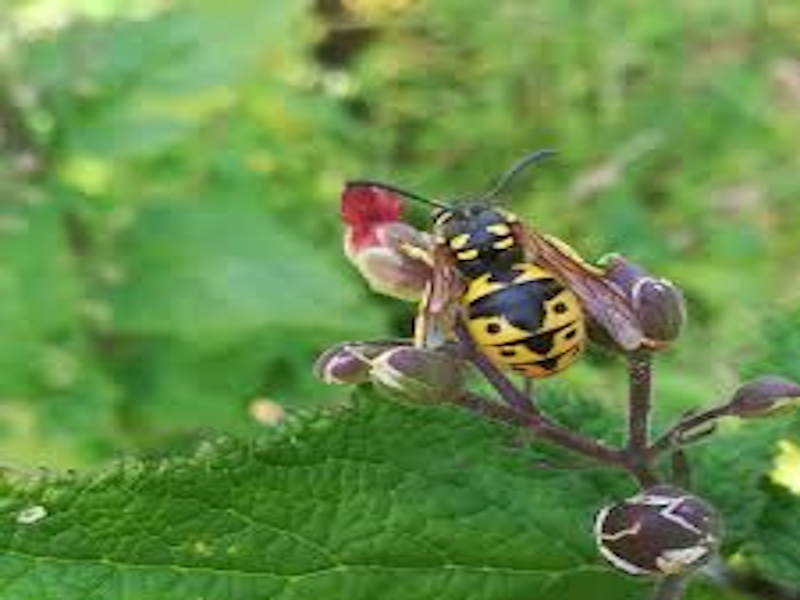chax: (346, 152, 634, 421)
